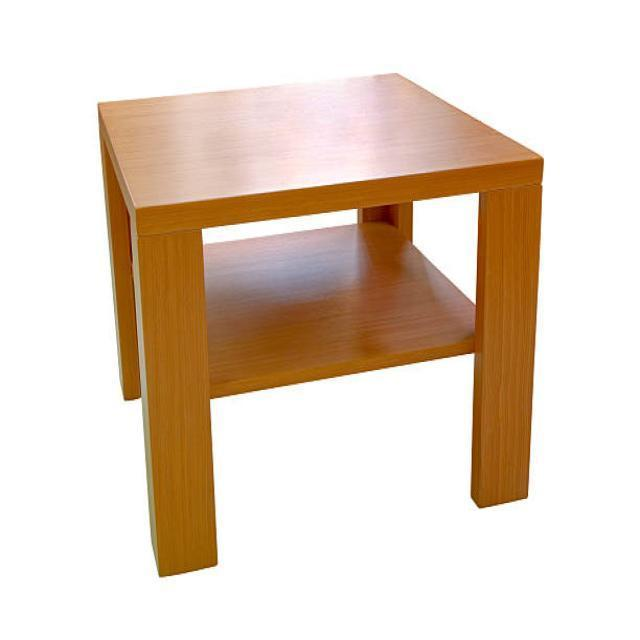table: (96, 70, 544, 578)
